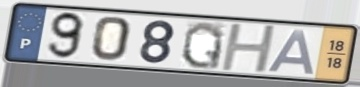0: (89, 15, 134, 63)
8: (138, 18, 176, 66)
9: (45, 10, 88, 62)
A: (265, 28, 317, 77)
H: (218, 23, 279, 74)
Q: (179, 19, 227, 71)
